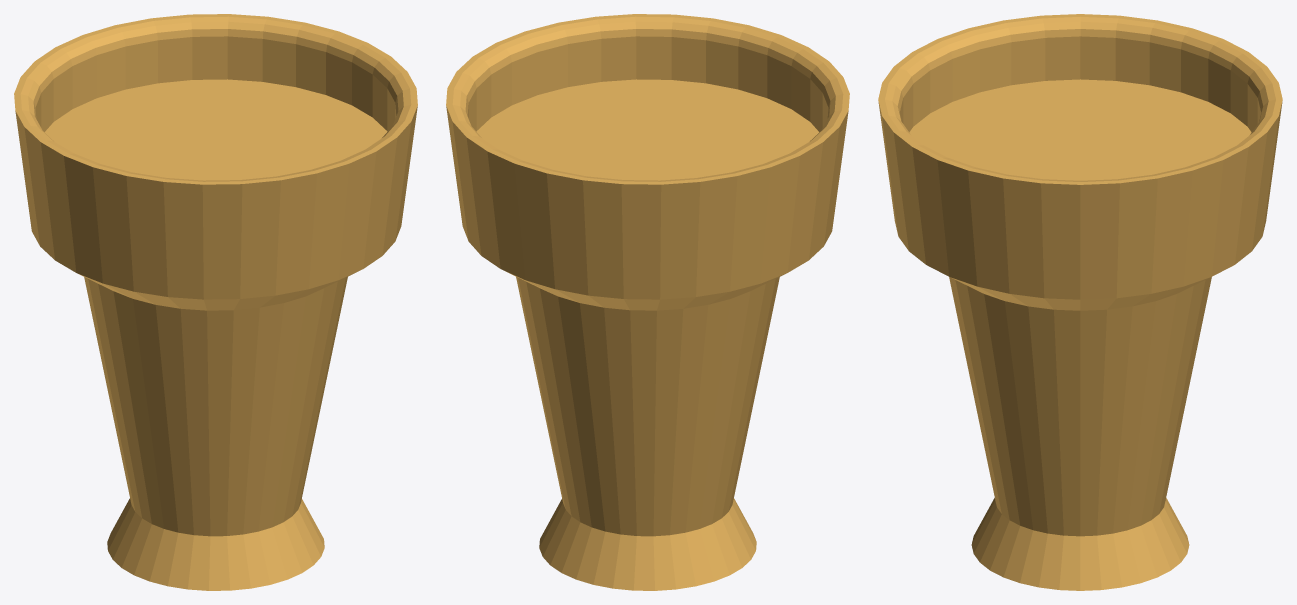
The model's file is Chalice.fbx.
3 views of the same model, side by side, from view 1: azimuth 30°, elevation 25°; view 2: azimuth 150°, elevation 25°; view 3: azimuth 270°, elevation 25° (orthographic).
Visible parts, largest first — view 1: Cylinder; view 2: Cylinder; view 3: Cylinder.
Part boxes in pixels (<box>): Cylinder: <box>14,14,417,590</box>; Cylinder: <box>446,14,849,590</box>; Cylinder: <box>878,14,1282,590</box>.
Size of the model in its own units: 101 by 123 by 101.
